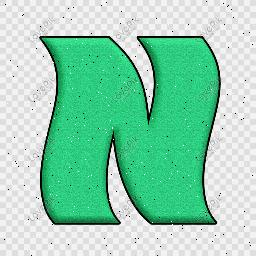n: (21, 20, 233, 238)
